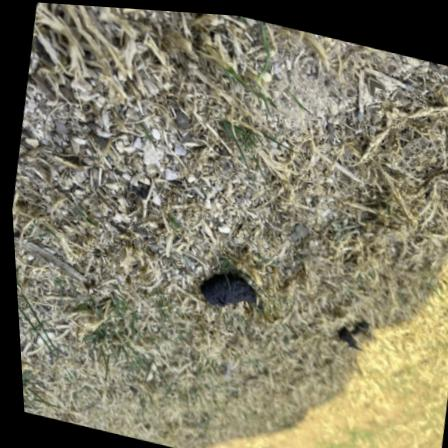dog-poop: (189, 252, 265, 319), (327, 306, 375, 355)
